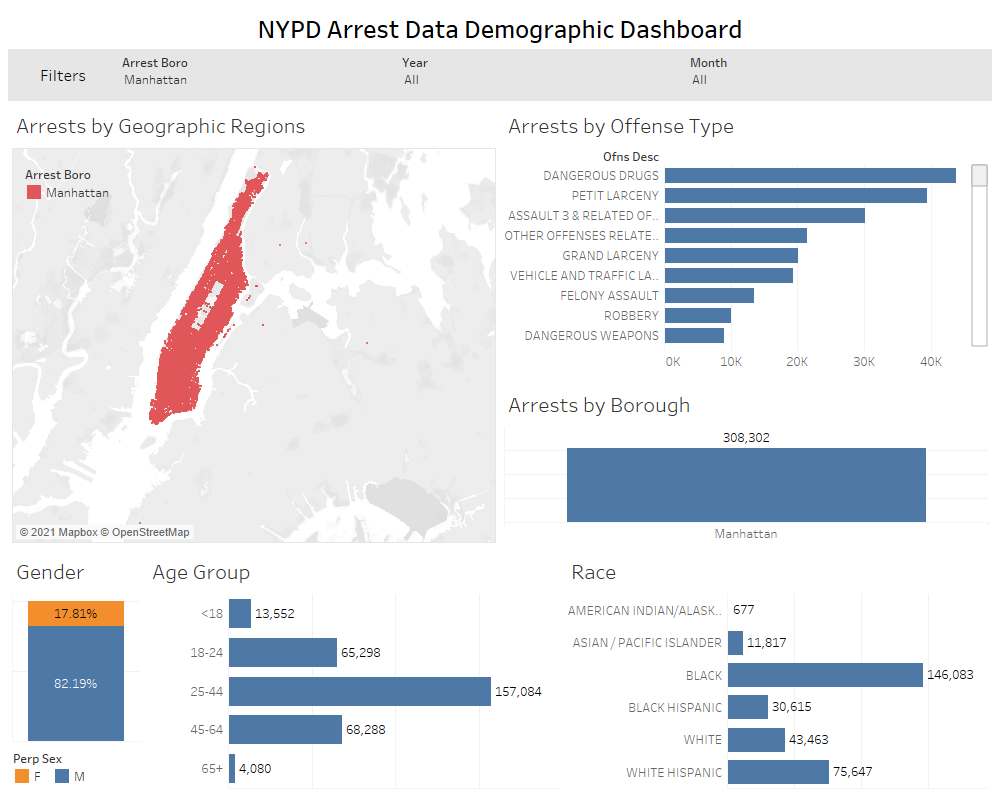

Layout of this report page (visuals, bound fields, positions):
{"tool":"tableau","page":{"name":"NYPD Arrest Data Demographic Dashboard","canvas":[1000,800],"ordinal":0},"visuals":[{"type":"title","box":[8,8,984,41]},{"type":"text","box":[8,49,110,52]},{"type":"filter","title":"Arrests by Offense Type","param":"[federated.0u0g2jr0y9b0lh1fggo9v036ljvq].[none:ARREST_BORO:nk]","box":[118,49,280,52]},{"type":"filter","title":"Arrests by Offense Type","param":"[federated.0u0g2jr0y9b0lh1fggo9v036ljvq].[yr:ARREST_DATE:ok]","box":[398,49,288,52]},{"type":"filter","title":"Arrests by Offense Type","param":"[federated.0u0g2jr0y9b0lh1fggo9v036ljvq].[mn:ARREST_DATE:ok]","box":[686,49,306,52]},{"type":"worksheet","title":"Arrests by Borough","mark":"Automatic","rows":["Latitude"],"cols":["Longitude"],"box":[8,101,492,445.8]},{"type":"worksheet","title":"Arrests by Offense Type","mark":"Automatic","rows":["OFNS_DESC"],"cols":["ARREST_DATE"],"box":[500,101,492,445.8]},{"type":"legend","title":"Arrests by Borough","param":"[federated.0u0g2jr0y9b0lh1fggo9v036ljvq].[none:ARREST_BORO:nk]","box":[29,164,140,118]},{"type":"worksheet","title":"Gender","mark":"Automatic","rows":["ARREST_DATE"],"box":[8,546.8,136,197.5]},{"type":"worksheet","title":"Age Group","mark":"Automatic","rows":["AGE_GROUP"],"cols":["ARREST_DATE"],"box":[144,546.8,419,245.2]},{"type":"worksheet","title":"Race","mark":"Automatic","rows":["PERP_RACE"],"cols":["ARREST_DATE"],"box":[563,546.8,429,245.2]},{"type":"legend","title":"Gender","param":"[federated.0u0g2jr0y9b0lh1fggo9v036ljvq].[none:PERP_SEX:nk]","box":[8,744.4,136,47.6]}]}

Visuals, with their boxes in screenshot pixels (x1, y1, x2, y2), scaled from the page's 1000x800 canvas onto the 1000x800 screenshot:
title: 8:8:992:49
text: 8:49:118:101
"Arrests by Offense Type" filter: 118:49:398:101
"Arrests by Offense Type" filter: 398:49:686:101
"Arrests by Offense Type" filter: 686:49:992:101
"Arrests by Borough" worksheet: 8:101:500:547
"Arrests by Offense Type" worksheet: 500:101:992:547
"Arrests by Borough" legend: 29:164:169:282
"Gender" worksheet: 8:547:144:744
"Age Group" worksheet: 144:547:563:792
"Race" worksheet: 563:547:992:792
"Gender" legend: 8:744:144:792
